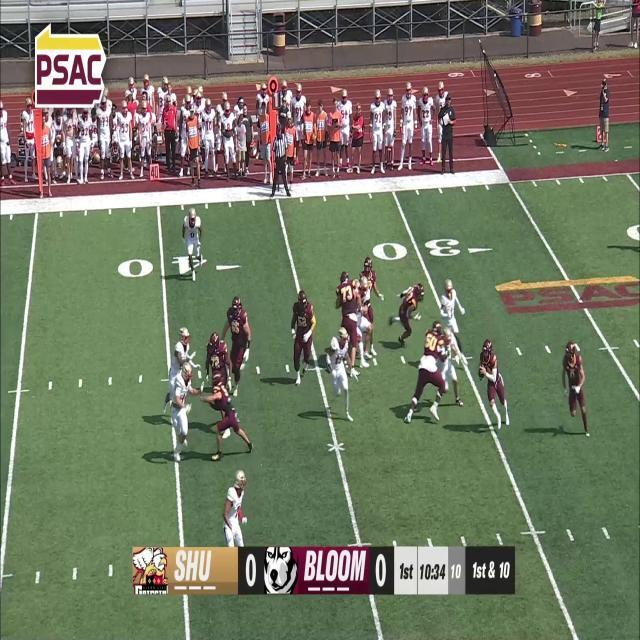football: (478, 366, 484, 382)
